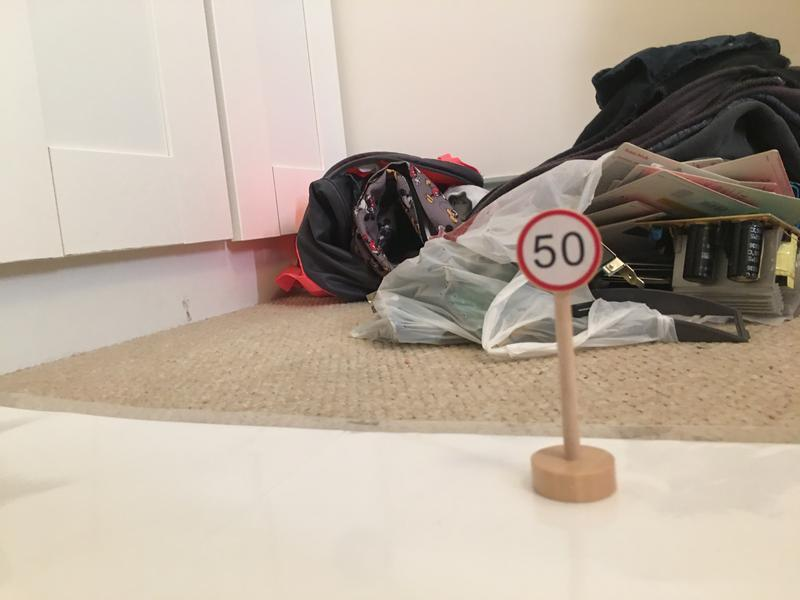Traffic_Sign_50: (518, 211, 603, 292)
